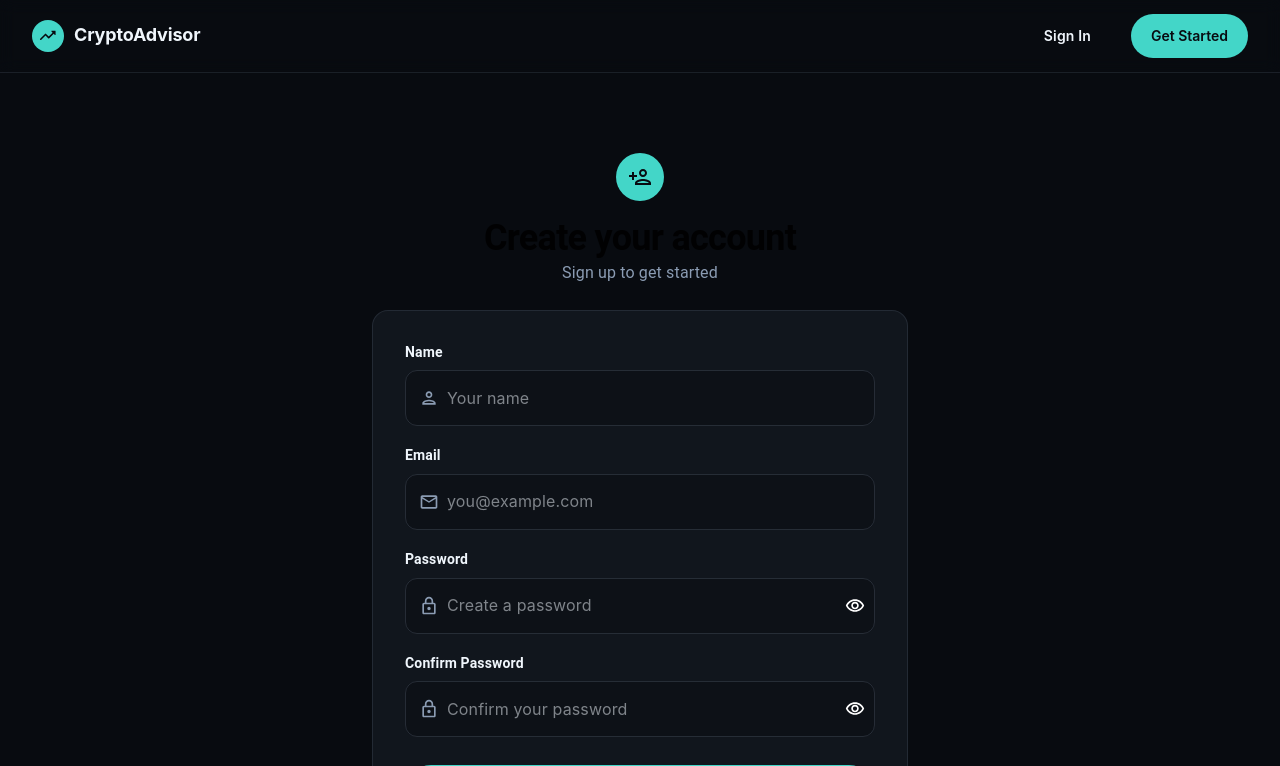
authentication flows › redirects to login with success message after registration
Type "Ron" into the field labelled "Name" at (661, 398), box [447,370,875,426]
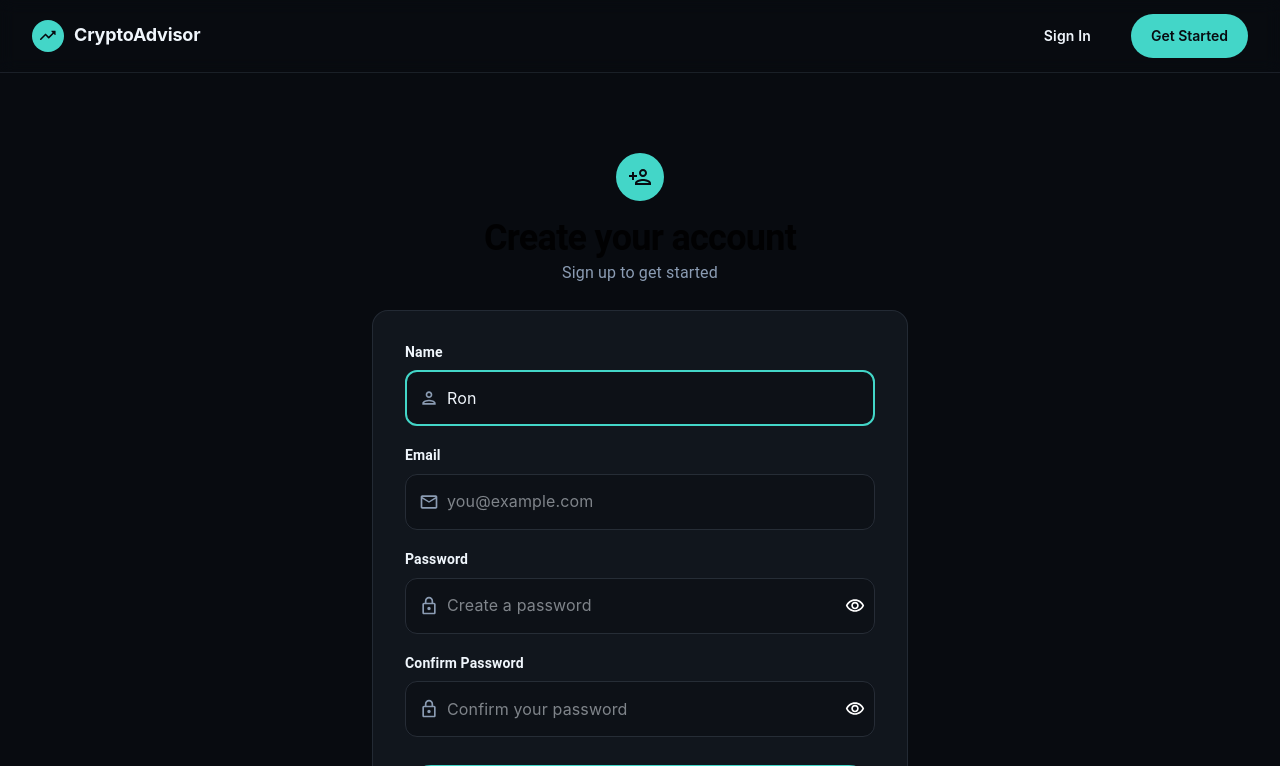
Type "ron@example.com" into the field labelled "Email" at (661, 502), box [447,474,875,530]
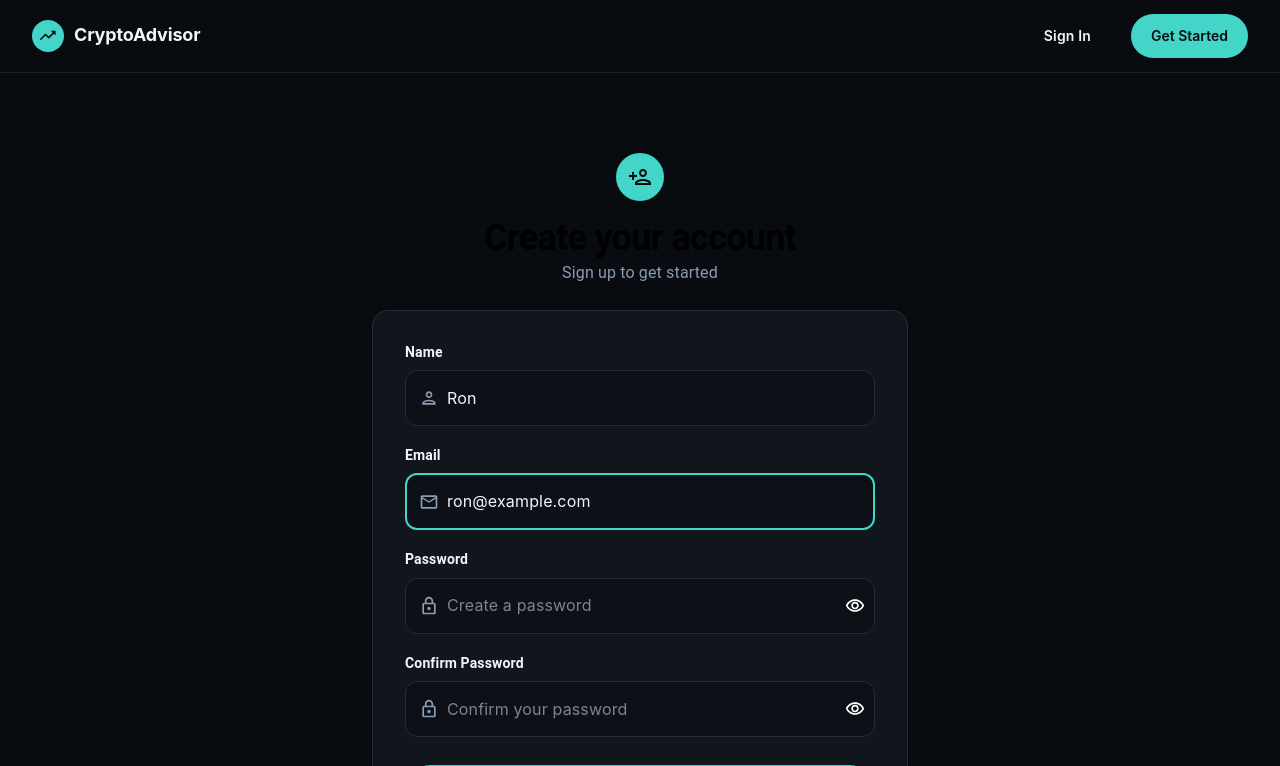
Type "StrongPass123!" into the password field labelled "Password" at (638, 606), box [447,578,829,634]
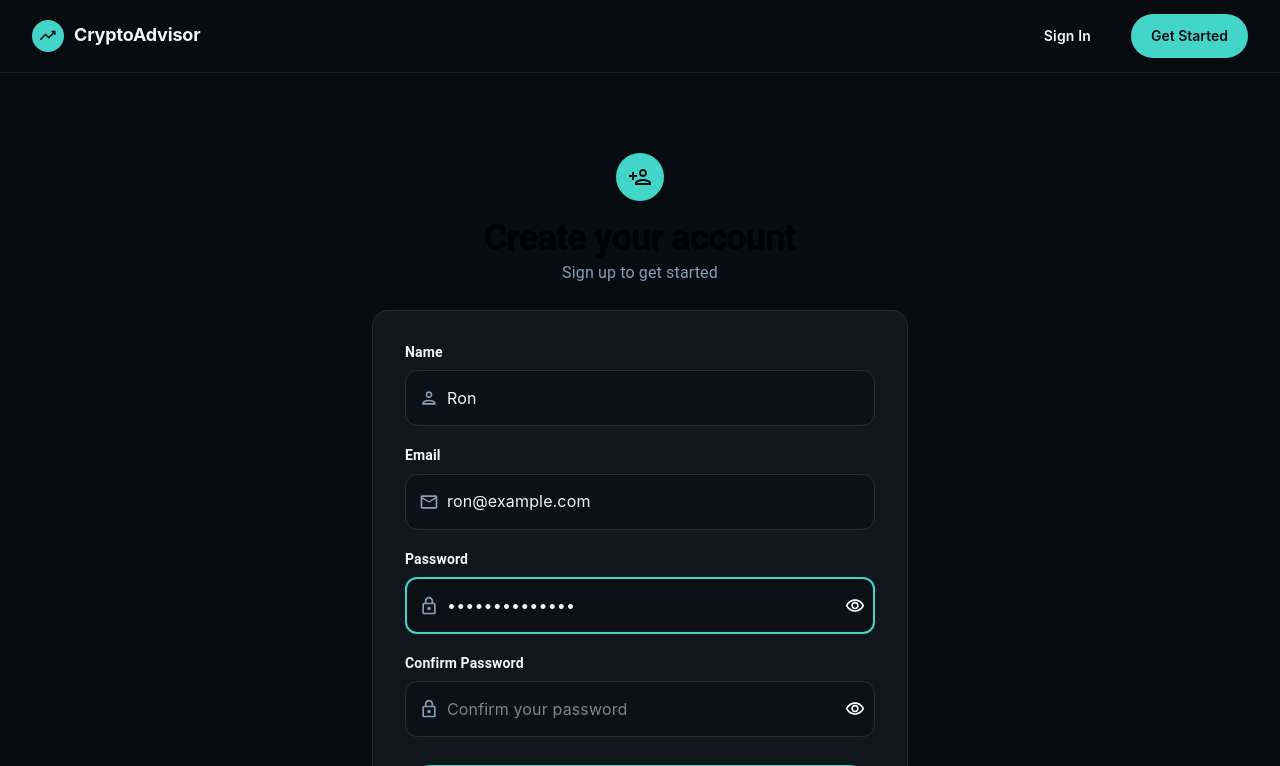
Type "StrongPass123!" into the password field labelled "Confirm Password" at (638, 709), box [447,681,829,737]
(page scrolled)
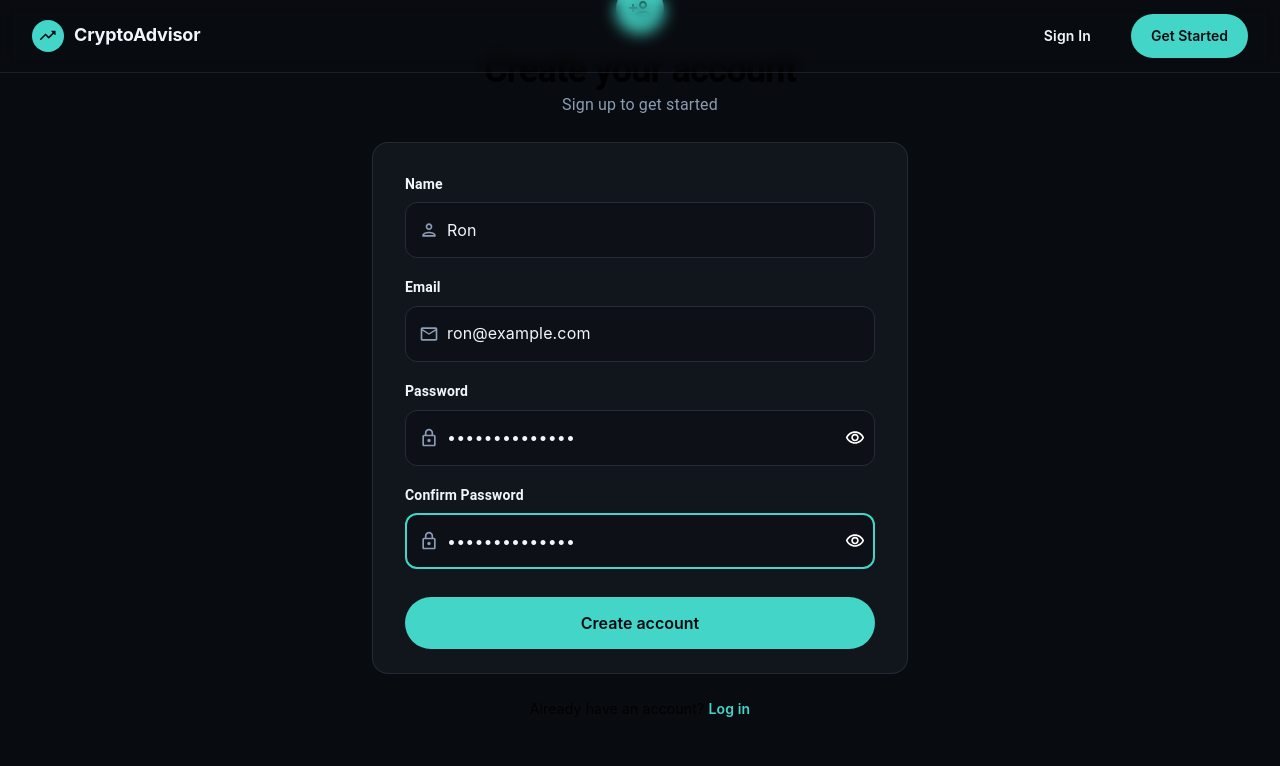
Click the button "Create account" at (640, 623), box [405,597,875,649]
(page scrolled)
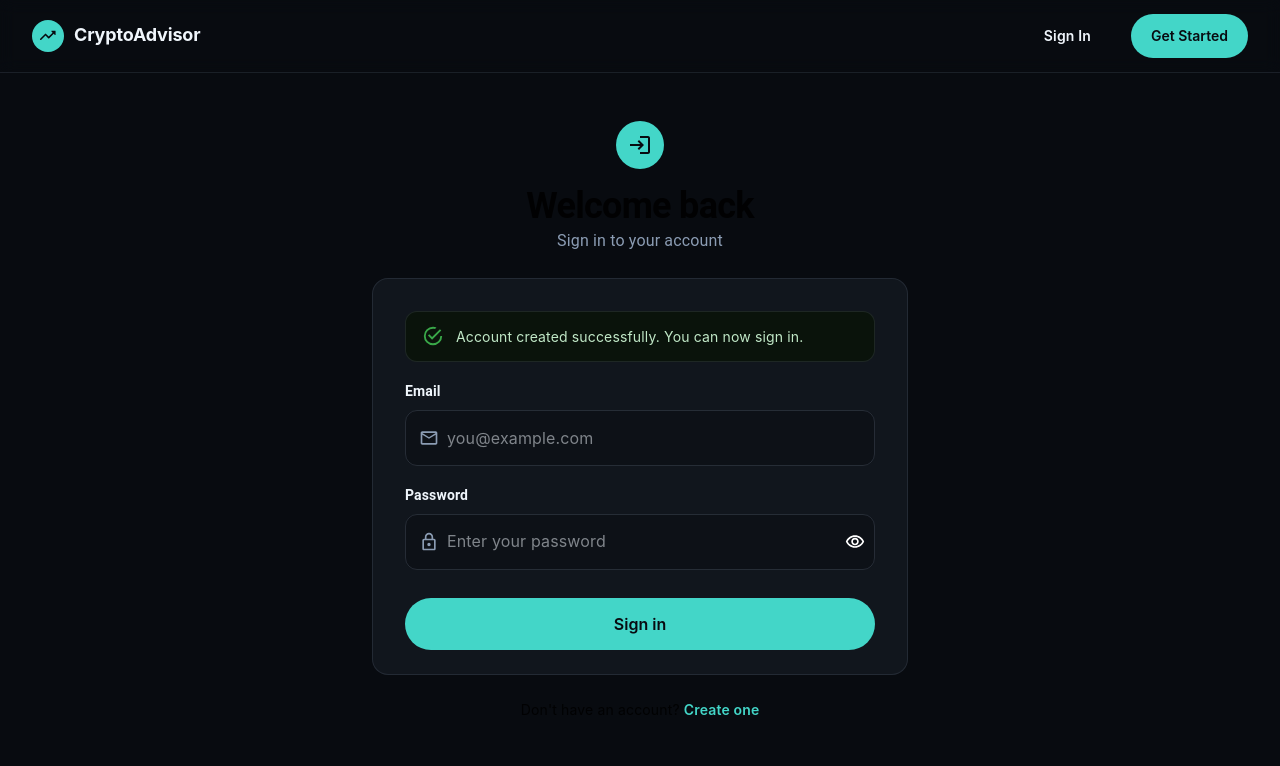
Expected: the text "Account created successfully. You can now sign in." is shown, [456,328,803,345]
